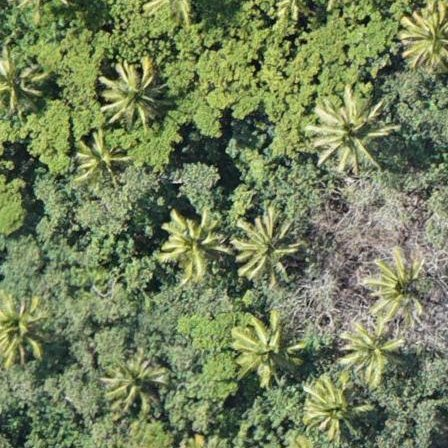palm_tree: (312, 97, 384, 171), (158, 213, 224, 281), (97, 60, 162, 128), (233, 215, 299, 280), (230, 318, 297, 382), (369, 254, 433, 321), (303, 372, 365, 435), (103, 355, 167, 415), (1, 291, 50, 362), (342, 319, 401, 375), (1, 44, 43, 121), (72, 133, 129, 185), (403, 9, 448, 73)
